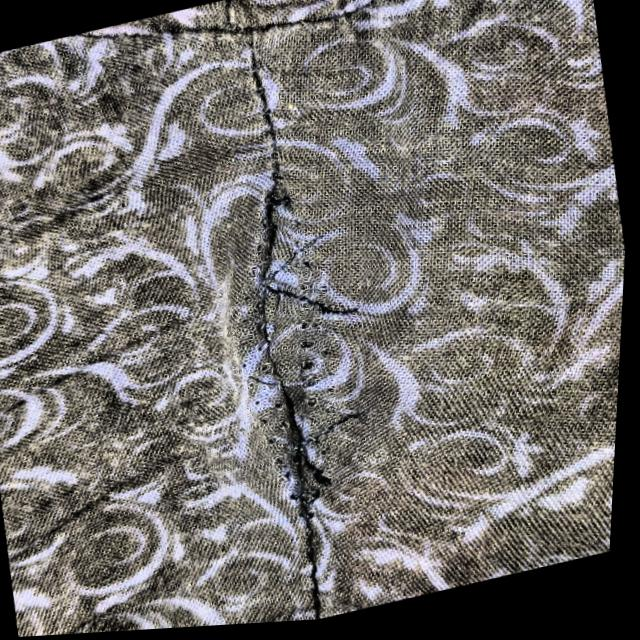seam: (174, 143, 425, 532)
